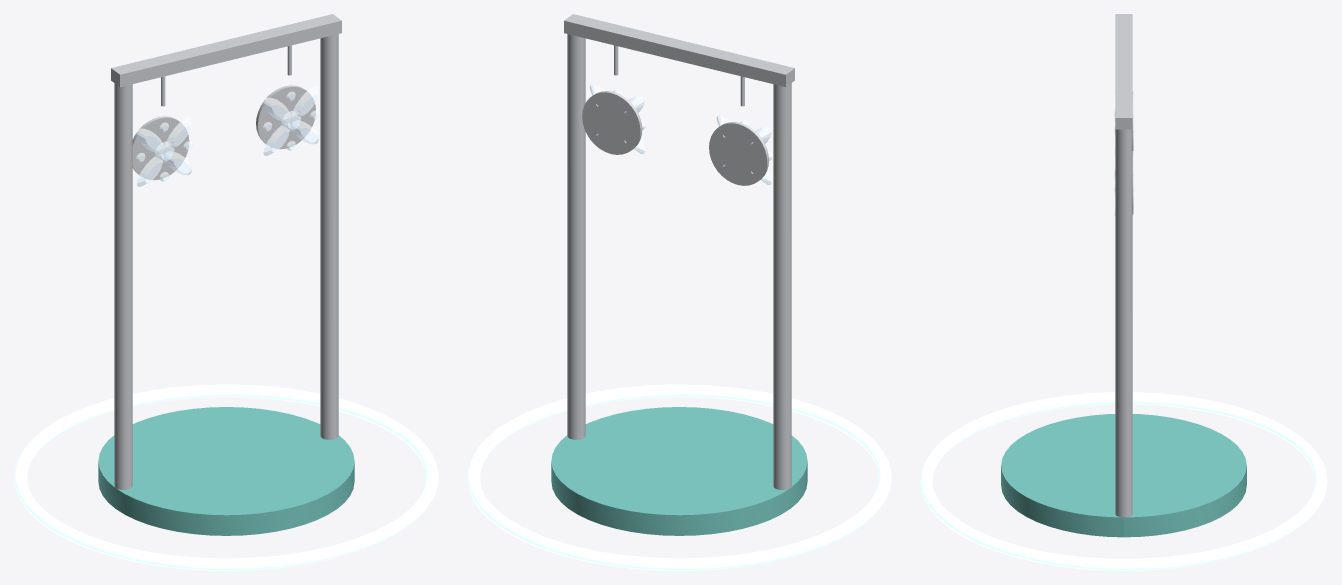
Rendered from tiffany-victoria-earrings.glb.
3 renders of one model, left to right at view 1: azimuth 30°, elevation 25°; view 2: azimuth 150°, elevation 25°; view 3: azimuth 270°, elevation 25°, orthographic. The views are drawn at different scales.
Parts seen in each view (by area): view 1: Base, Halo, PostL, PostR, Backing (×2), Bar; view 2: Base, Halo, PostL, PostR, Backing (×2), Bar; view 3: Base, Halo, PostR, Bar.
Boxes of the visible parts, left/top/right/bottom form: Base: left=98, top=407, right=354, bottom=535; Halo: left=14, top=384, right=438, bottom=570; PostL: left=114, top=83, right=132, bottom=489; PostR: left=320, top=34, right=338, bottom=439; Backing (×2): left=132, top=85, right=315, bottom=180; Bar: left=111, top=14, right=341, bottom=87; Base: left=551, top=407, right=807, bottom=535; Halo: left=467, top=384, right=891, bottom=570; PostL: left=773, top=83, right=791, bottom=489; PostR: left=567, top=34, right=585, bottom=439; Backing (×2): left=582, top=91, right=768, bottom=185; Bar: left=564, top=14, right=794, bottom=87; Base: left=1001, top=414, right=1246, bottom=537; Halo: left=920, top=392, right=1327, bottom=570; PostR: left=1115, top=129, right=1132, bottom=517; Bar: left=1115, top=14, right=1132, bottom=129.
Size of the model in its own units: 0.0928 by 0.1059 by 0.0928.
